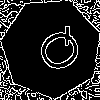Q: (26, 23, 87, 81)
